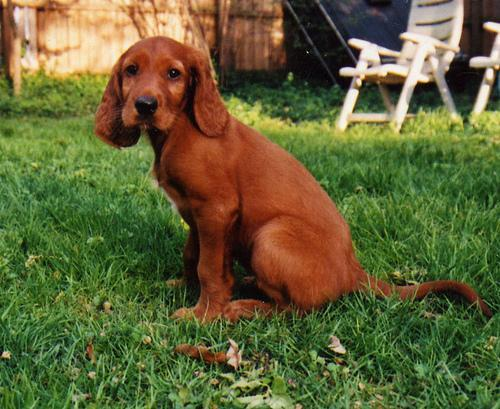Irish_setter: (93, 35, 486, 330)
